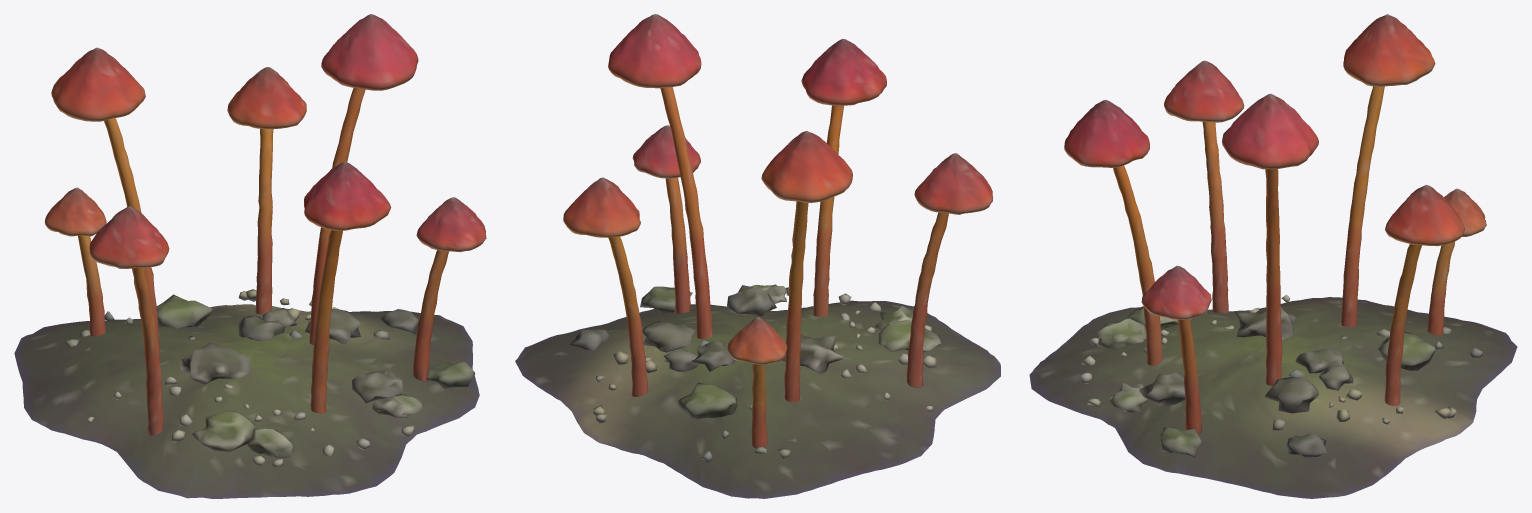
Rendered from mantar_cin.glb.
3 renders of one model, left to right at view 1: azimuth 30°, elevation 25°; view 2: azimuth 150°, elevation 25°; view 3: azimuth 270°, elevation 25°, orthographic. The views are drawn at different scales.
Parts seen in each view (by area): view 1: mantar_cin_LOD0; view 2: mantar_cin_LOD0; view 3: mantar_cin_LOD0.
Part boxes in pixels (box(x1,y1,x2,y2)): mantar_cin_LOD0: box(14, 14, 486, 498); mantar_cin_LOD0: box(515, 14, 1000, 498); mantar_cin_LOD0: box(1029, 14, 1517, 498).
Size of what is drawn, in the model's own units: 0.4723 by 0.3787 by 0.4761.
